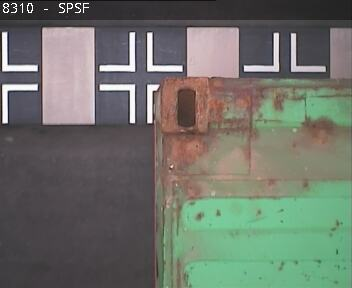groundmarker_1: (244, 31, 327, 71), (3, 31, 38, 124), (99, 32, 182, 71), (98, 82, 165, 123)
